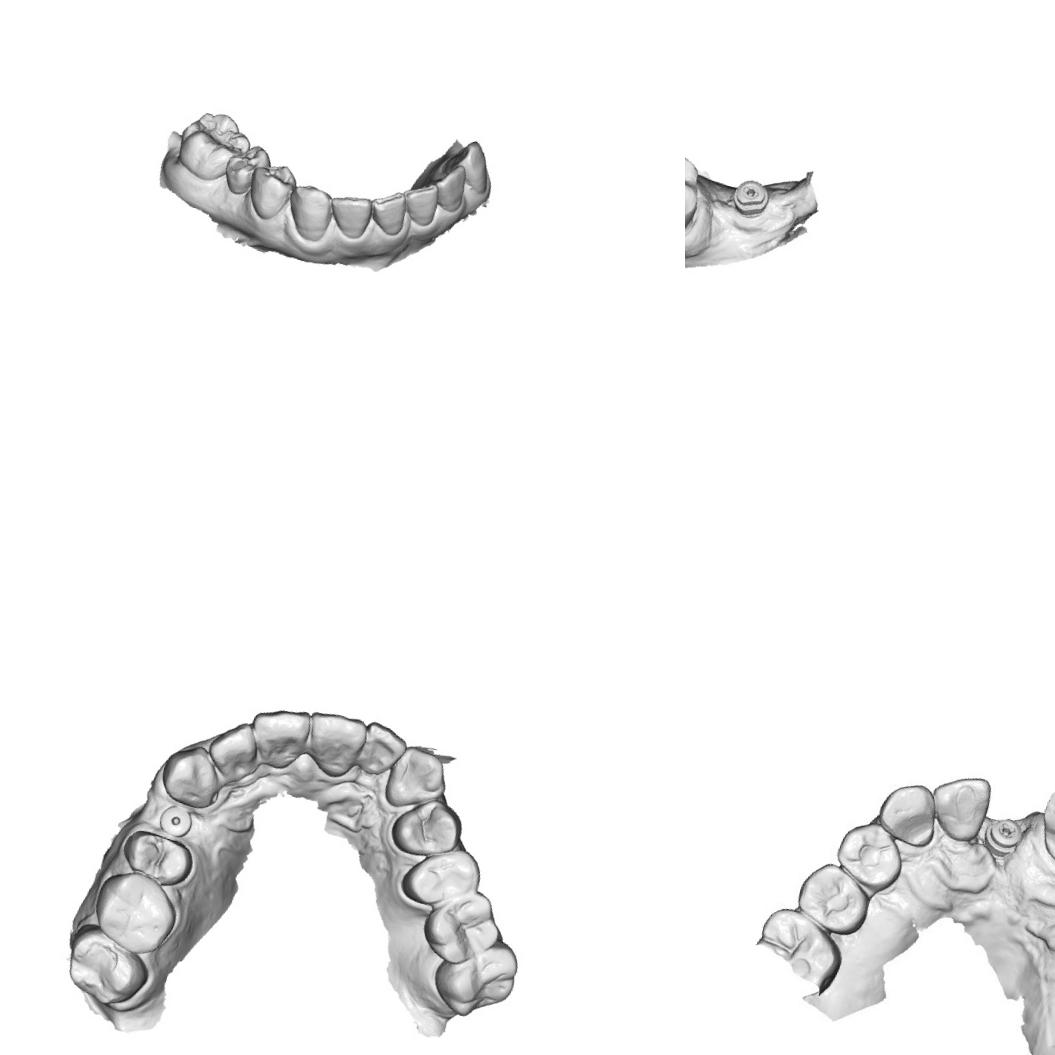canine: (378, 738, 456, 822), (151, 734, 229, 814), (870, 774, 944, 850), (278, 178, 337, 246)
implant: (153, 800, 196, 842)
implant_minus: (727, 174, 774, 222)
implant_plus: (980, 810, 1029, 863)
incisor: (238, 696, 318, 777), (296, 705, 371, 784), (926, 766, 996, 846), (199, 713, 265, 786), (438, 132, 500, 196), (353, 717, 412, 784), (322, 186, 376, 243), (422, 158, 471, 214), (364, 184, 412, 239), (394, 174, 442, 229), (1028, 787, 1055, 870)
molar: (422, 922, 528, 1030), (83, 862, 186, 962), (55, 917, 156, 1016), (414, 876, 512, 975), (168, 101, 258, 190), (788, 856, 879, 940), (826, 812, 910, 892), (685, 139, 710, 237)
premolar: (394, 831, 490, 922), (384, 786, 472, 868), (114, 822, 199, 890), (239, 156, 300, 224), (218, 136, 275, 201)
